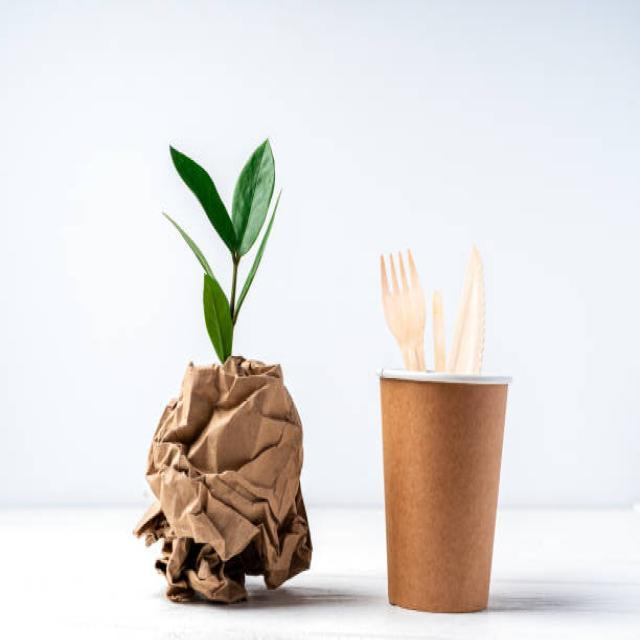cardboard: (372, 375, 500, 626)
paper: (123, 362, 316, 596)
